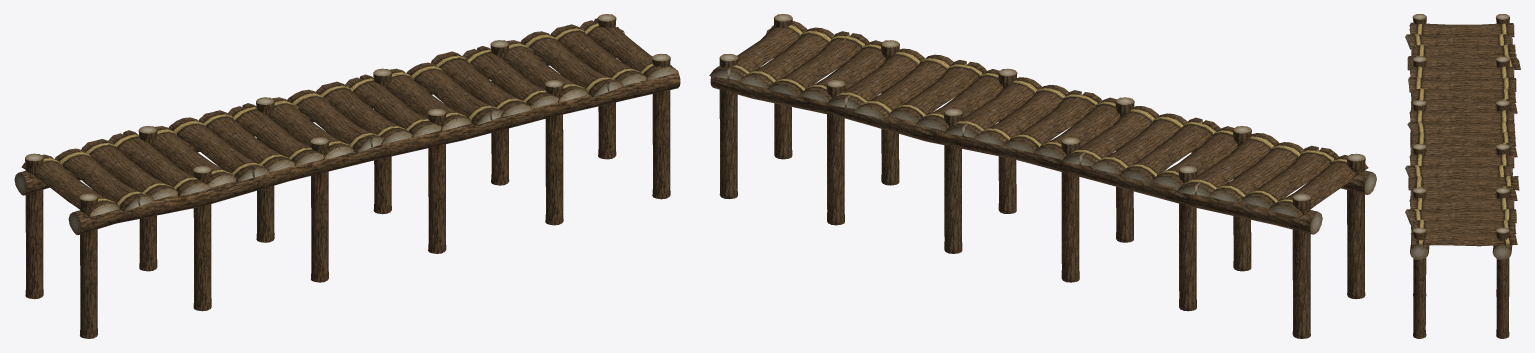
Rendered from WoodPier2.obj.
The picture shows the model from 3 angles, left to right: view 1: azimuth 30°, elevation 25°; view 2: azimuth 150°, elevation 25°; view 3: azimuth 270°, elevation 25°; orthographic projection. The views are drawn at different scales.
Parts seen in each view (by area): view 1: Mesh; view 2: Mesh; view 3: Mesh.
Part boxes in pixels (box(x1,y1,x2,y2)): Mesh: box(14, 14, 680, 338); Mesh: box(709, 14, 1376, 338); Mesh: box(1405, 14, 1520, 338).
Size of the model in its own units: 14.72 by 3.24 by 3.22.
